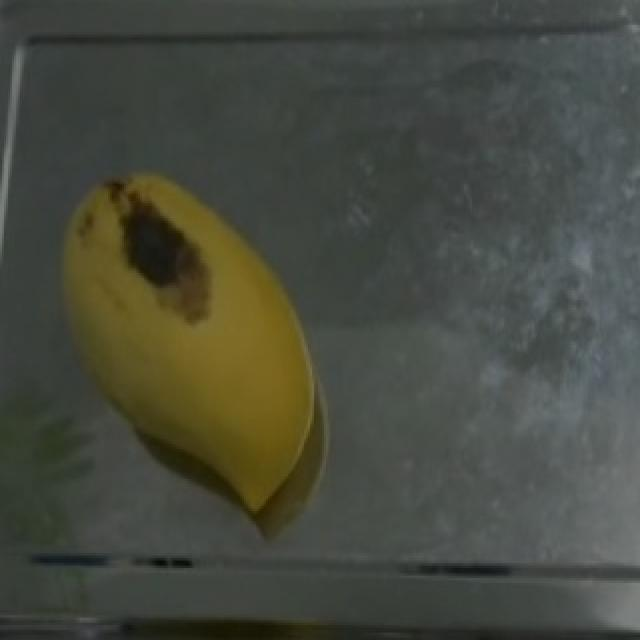fruit: (38, 191, 342, 541)
